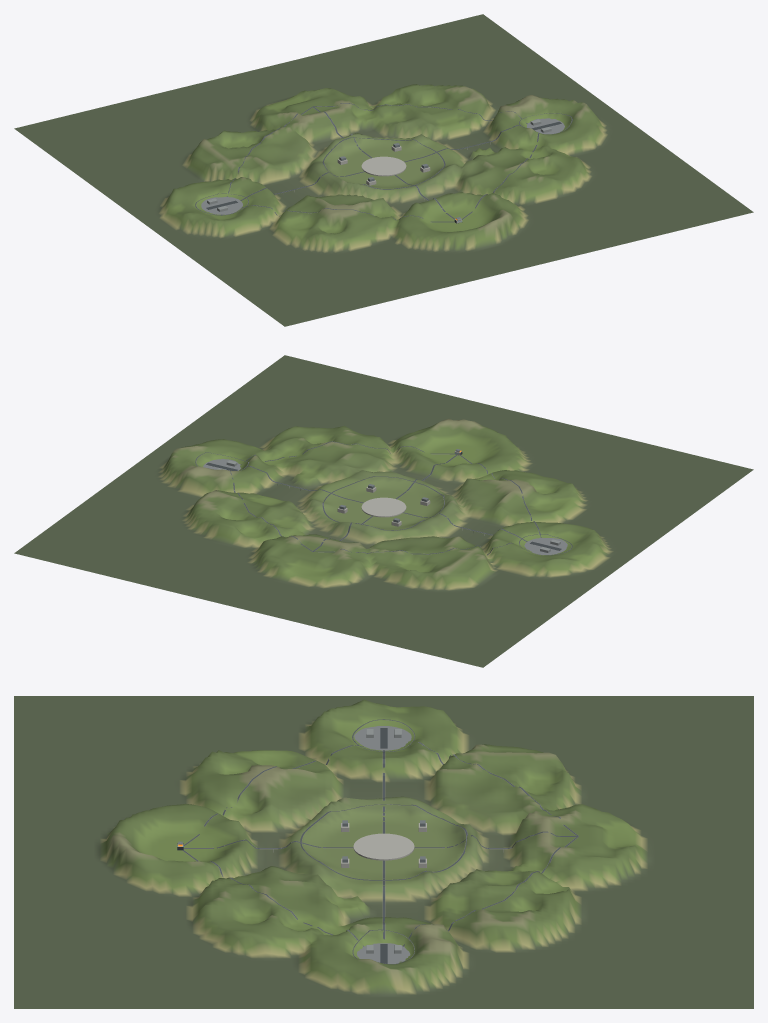
File: starter-coast-world-authored-v2-lod1.glb
3 renders of one model, top to bottom at view 1: azimuth 30°, elevation 25°; view 2: azimuth 150°, elevation 25°; view 3: azimuth 270°, elevation 25°, orthographic. The views are drawn at different scales.
Visible parts, largest first — view 1: Starter_Coast_LOD1__Terrain surface__batch, Starter_Coast_LOD1__Road surface__batch, Starter_Coast_LOD1__Bunker concrete__batch, Starter_Coast_LOD1__Airbase deck__batch; view 2: Starter_Coast_LOD1__Terrain surface__batch, Starter_Coast_LOD1__Road surface__batch, Starter_Coast_LOD1__Bunker concrete__batch, Starter_Coast_LOD1__Airbase deck__batch; view 3: Starter_Coast_LOD1__Terrain surface__batch, Starter_Coast_LOD1__Road surface__batch, Starter_Coast_LOD1__Bunker concrete__batch, Starter_Coast_LOD1__Airbase deck__batch, Starter_Coast_LOD1__Road shoulder__batch.
Boxes of the visible parts, box(x1,y1,x2,y2) form: Starter_Coast_LOD1__Terrain surface__batch: box(14, 14, 753, 326); Starter_Coast_LOD1__Road surface__batch: box(195, 103, 572, 222); Starter_Coast_LOD1__Bunker concrete__batch: box(283, 137, 490, 223); Starter_Coast_LOD1__Airbase deck__batch: box(201, 118, 564, 214); Starter_Coast_LOD1__Terrain surface__batch: box(14, 355, 753, 667); Starter_Coast_LOD1__Road surface__batch: box(195, 441, 572, 555); Starter_Coast_LOD1__Bunker concrete__batch: box(277, 450, 484, 535); Starter_Coast_LOD1__Airbase deck__batch: box(203, 459, 567, 554); Starter_Coast_LOD1__Terrain surface__batch: box(14, 696, 753, 1008); Starter_Coast_LOD1__Road surface__batch: box(183, 719, 578, 964); Starter_Coast_LOD1__Bunker concrete__batch: box(177, 823, 503, 867); Starter_Coast_LOD1__Airbase deck__batch: box(354, 726, 411, 963); Starter_Coast_LOD1__Road shoulder__batch: box(182, 720, 578, 963).
Size of the model in its own units: 8000 by 286 by 8000.
